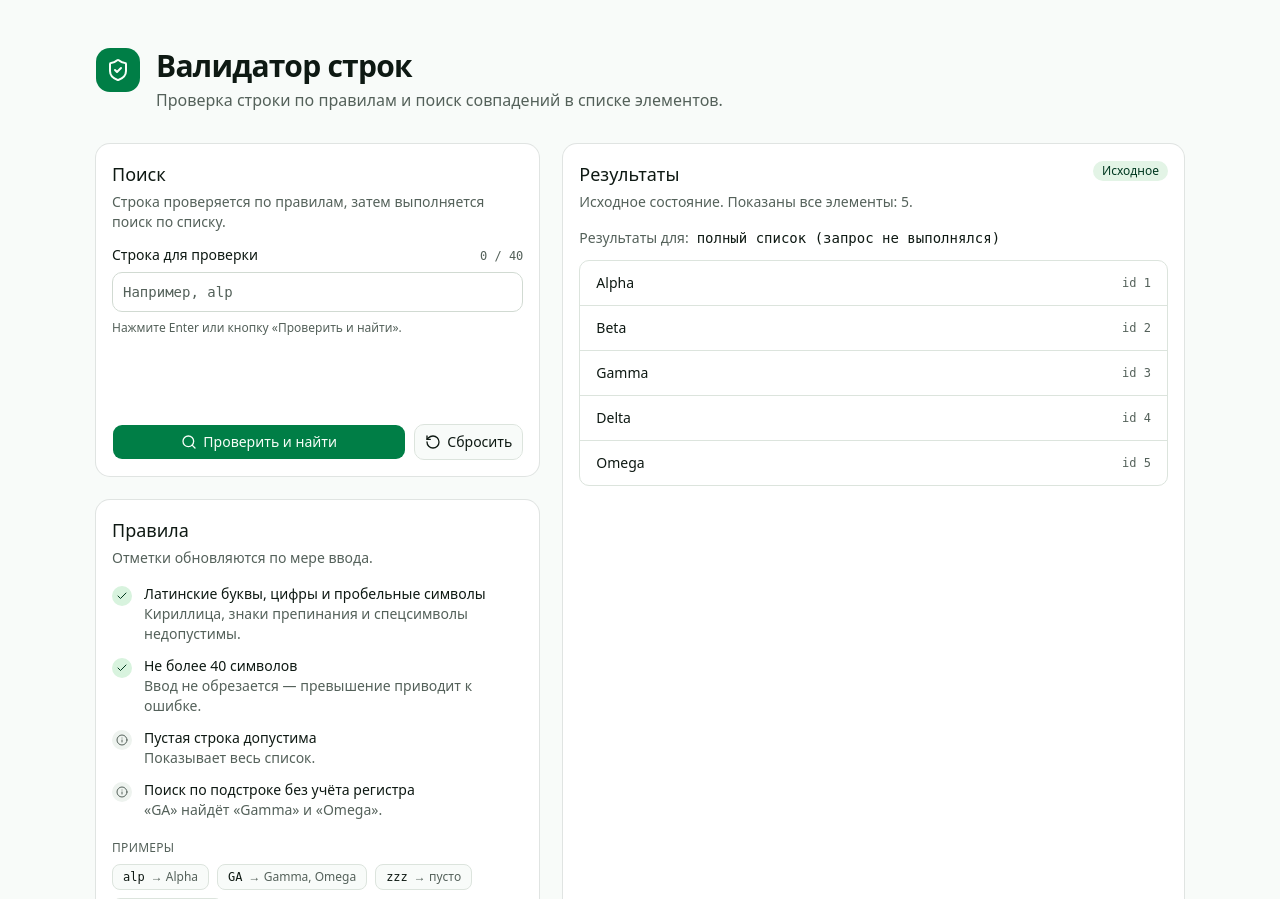
Test: Валидация формы › accepts an empty query and displays the full response
The width and height of the screenshot is (1280, 899).
Click the button "Проверить и найти".
click(259, 442)  # box [112,424,406,460]
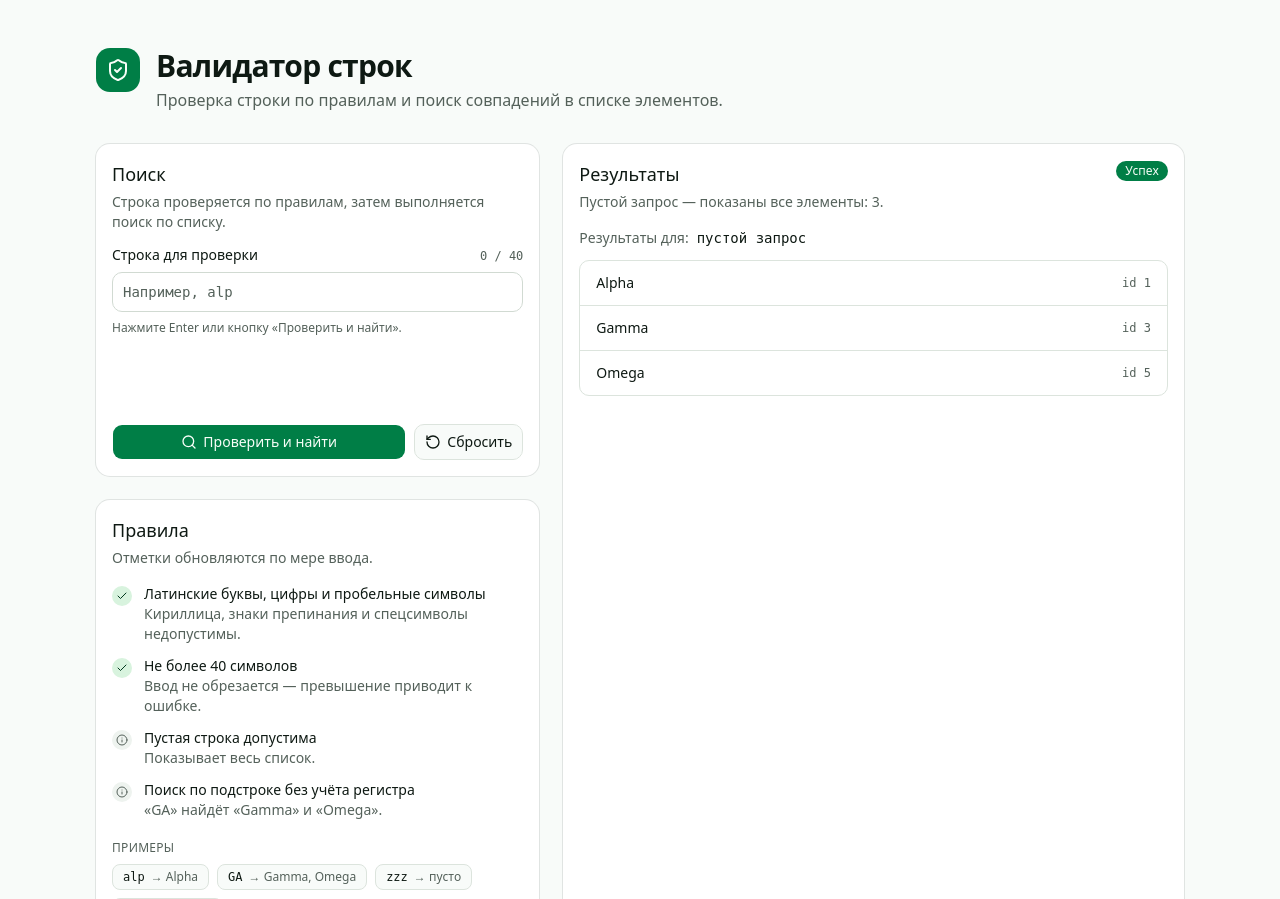
Now the text "Пустой запрос — показаны все элементы: 3." is shown, box [579,192,883,211]
